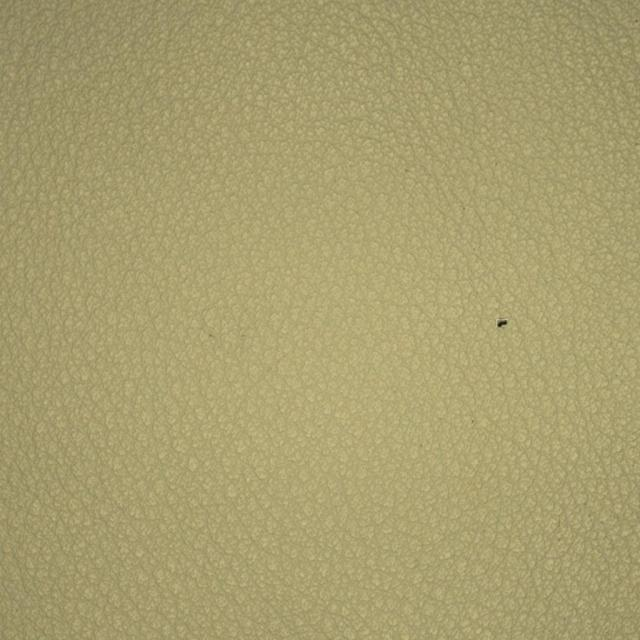Hole: (398, 271, 606, 381)
